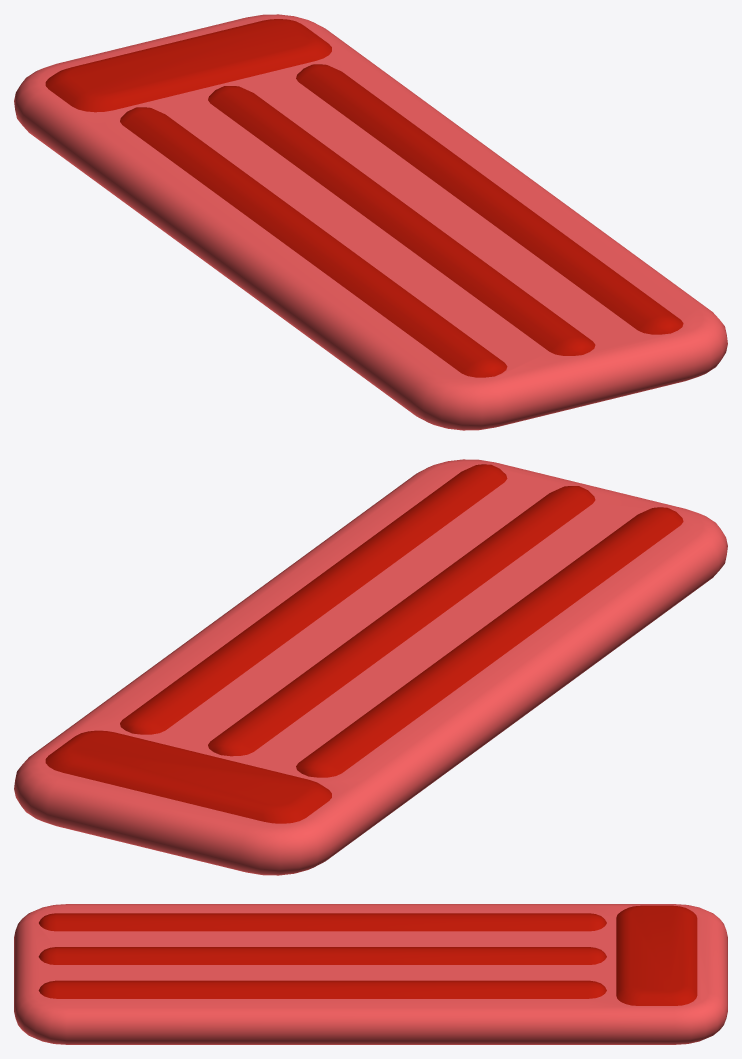
The model's file is Airbed.fbx.
3 views of the same model, one above another, from view 1: azimuth 30°, elevation 25°; view 2: azimuth 150°, elevation 25°; view 3: azimuth 270°, elevation 25° (orthographic). The views are drawn at different scales.
Parts seen in each view (by area): view 1: Airbed; view 2: Airbed; view 3: Airbed.
Part boxes in pixels (x1,y1,x2,y2): Airbed: [14, 14, 727, 430]; Airbed: [14, 459, 727, 875]; Airbed: [14, 904, 727, 1044].
Size of the model in its own units: 58.79 by 11.6 by 150.
